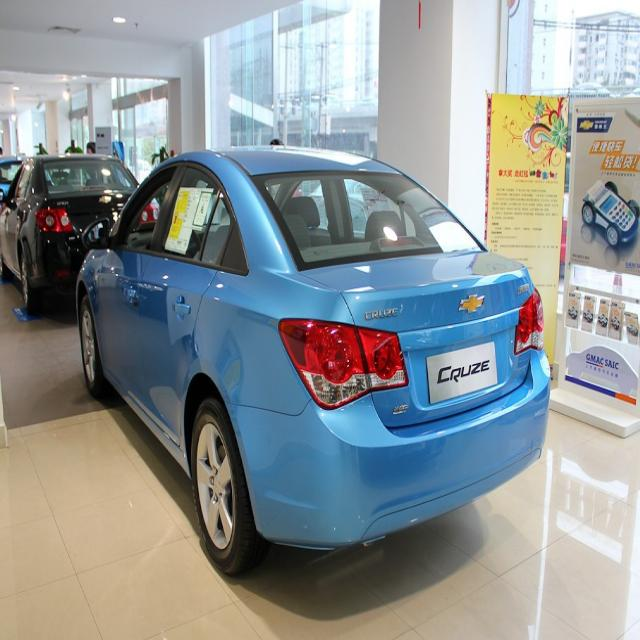back_glass: (247, 171, 488, 270)
back_left_side_light: (277, 314, 412, 416)
back_right_side_light: (513, 289, 547, 361)
door: (142, 174, 242, 430)
front_left_side_door: (100, 157, 176, 416)
front_left_side_mirror: (81, 210, 111, 252)
rear_bumper: (234, 351, 550, 551)
wheel: (192, 398, 248, 574), (82, 298, 101, 392)
